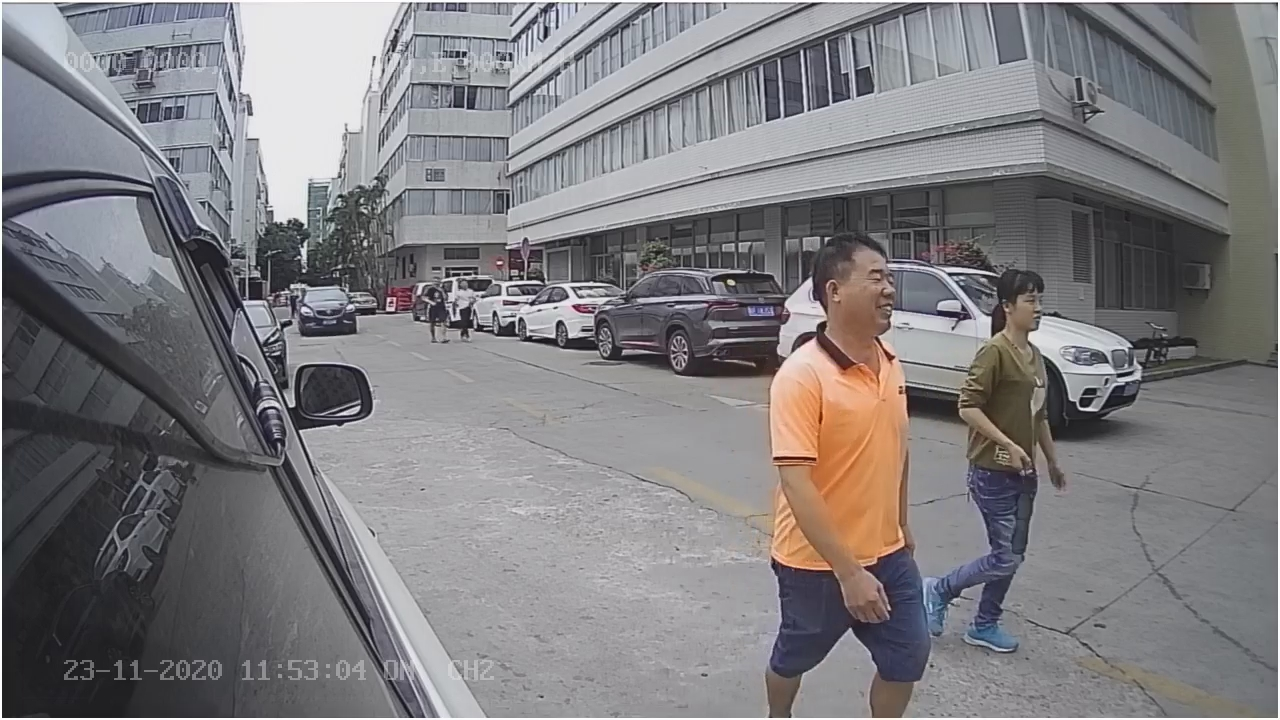person: (759, 236, 932, 712), (945, 263, 1049, 639)
